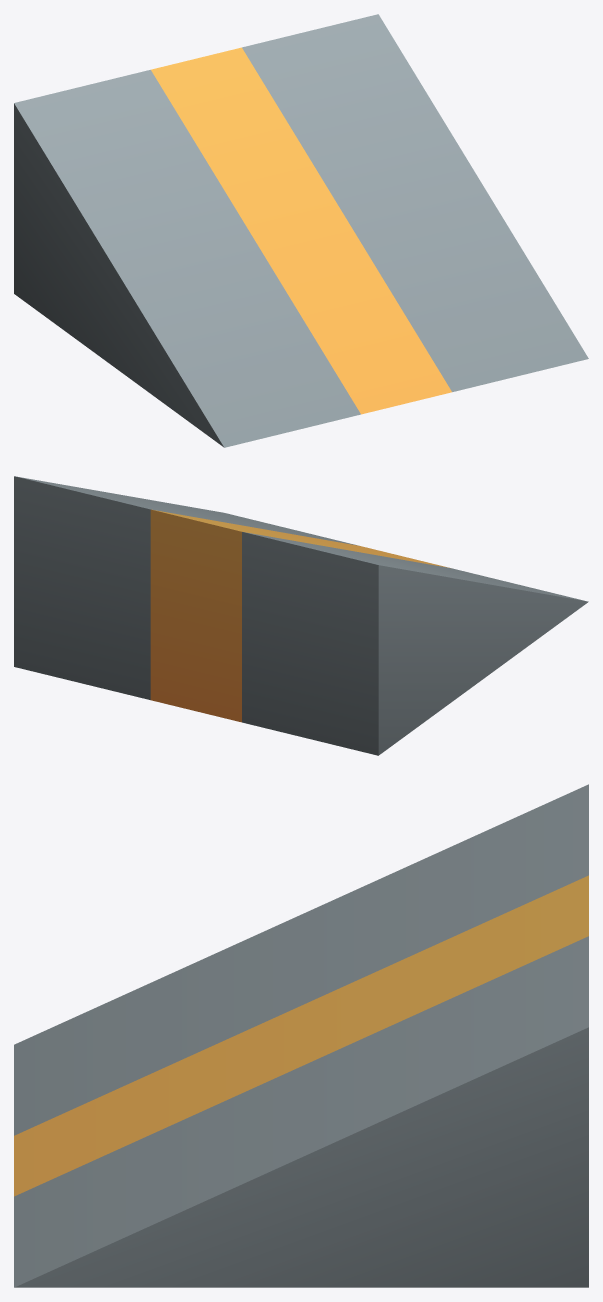
The model's file is ramp_low.gltf.glb.
The picture shows the model from 3 angles, top to bottom: view 1: azimuth 30°, elevation 25°; view 2: azimuth 150°, elevation 25°; view 3: azimuth 270°, elevation 25°; orthographic projection. The views are drawn at different scales.
Visible parts, largest first — view 1: ramp_low; view 2: ramp_low; view 3: ramp_low.
Boxes of the visible parts, x1,y1,x2,y2 form: ramp_low: (14,14,588,447); ramp_low: (14,476,588,755); ramp_low: (14,784,588,1287).
Size of the model in its own units: 2 by 1 by 2.
1 material, 1 textured.
